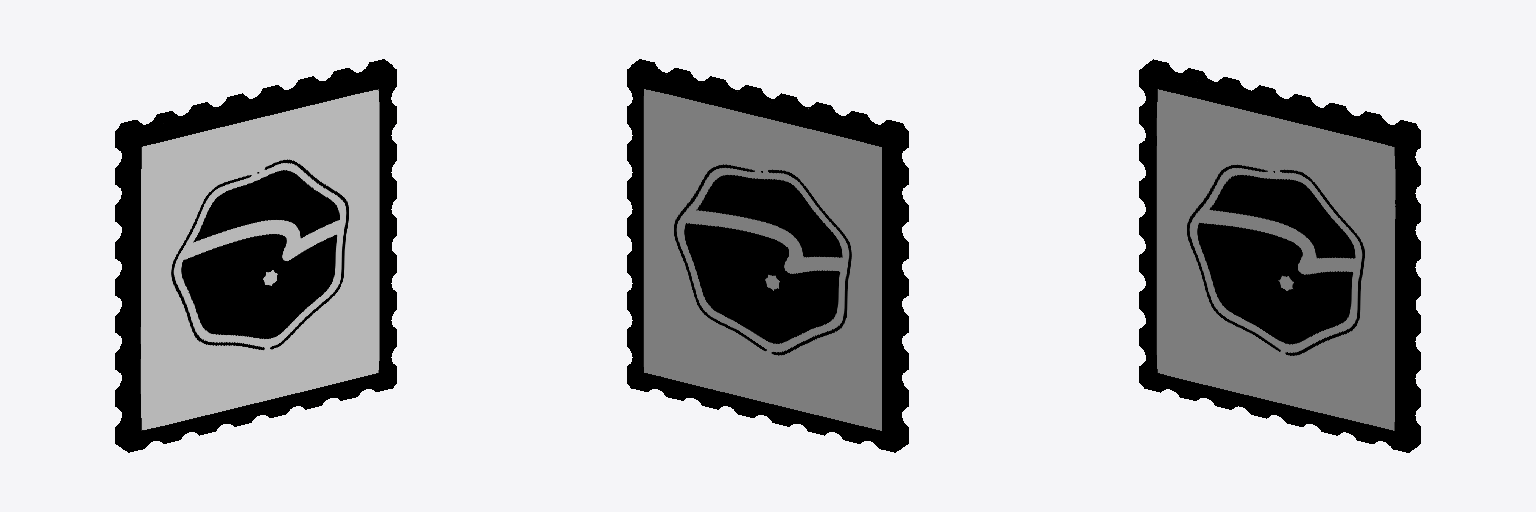
3 views of the same model, side by side, from view 1: azimuth 30°, elevation 25°; view 2: azimuth 150°, elevation 25°; view 3: azimuth 330°, elevation 25° (orthographic).
Visible parts, largest first — view 1: Stamp; view 2: Stamp; view 3: Stamp.
Part boxes in pixels (x1,y1,x2,y2): Stamp: (115,59,396,452); Stamp: (627,59,908,452); Stamp: (1139,59,1420,452).
Size of the model in its own units: 0.1918 by 0.2165 by 0.01.
Materials: 1 (1 with a texture image).